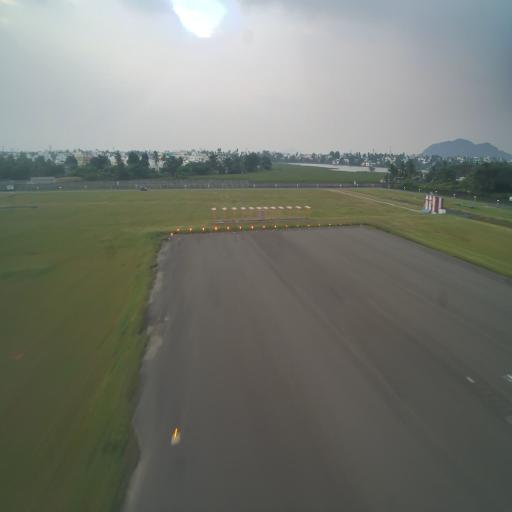on: (169, 424, 179, 447)
